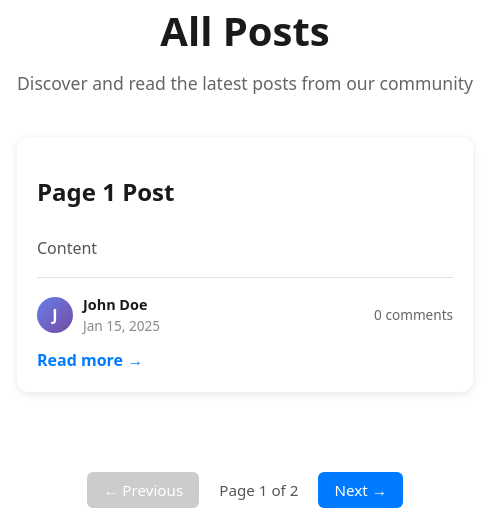
PostsList Component › Pagination › should fetch next page when "Next" button is clicked
Expected: the heading "Page 1 Post" is shown, [37, 176, 174, 208]
Click the button "Next →": (361, 490) [318, 472, 403, 508]
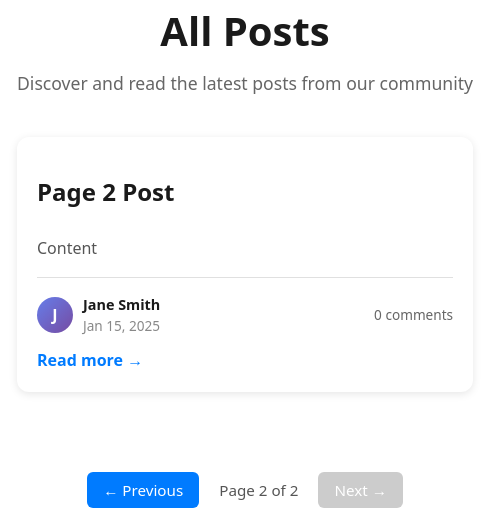
Expected: the heading "Page 2 Post" is shown, [37, 176, 174, 208]
